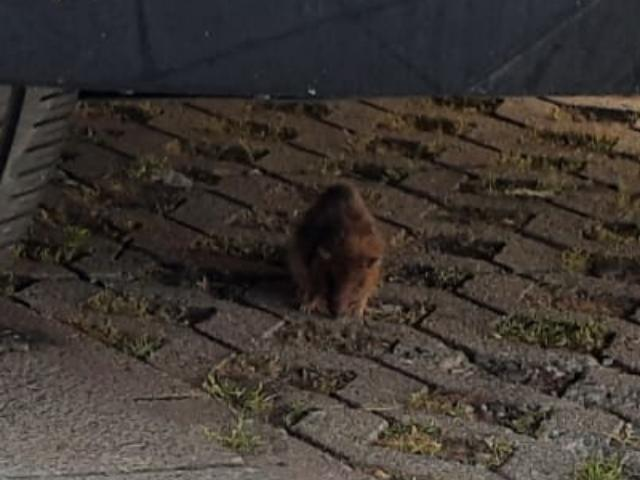rat: (264, 165, 400, 331)
